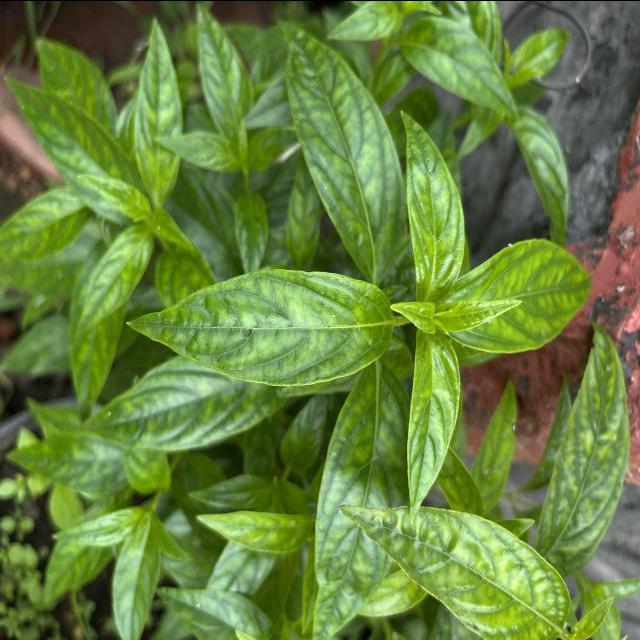Andrographis paniculata: (276, 12, 410, 276), (122, 267, 394, 387), (340, 498, 570, 636), (310, 341, 412, 638), (541, 322, 633, 566), (1, 72, 146, 224), (76, 356, 292, 454), (442, 235, 594, 357), (396, 15, 520, 120), (396, 108, 464, 298), (405, 325, 462, 526), (132, 13, 184, 206), (73, 224, 156, 340), (514, 109, 570, 243), (196, 2, 251, 132), (191, 506, 314, 554)
